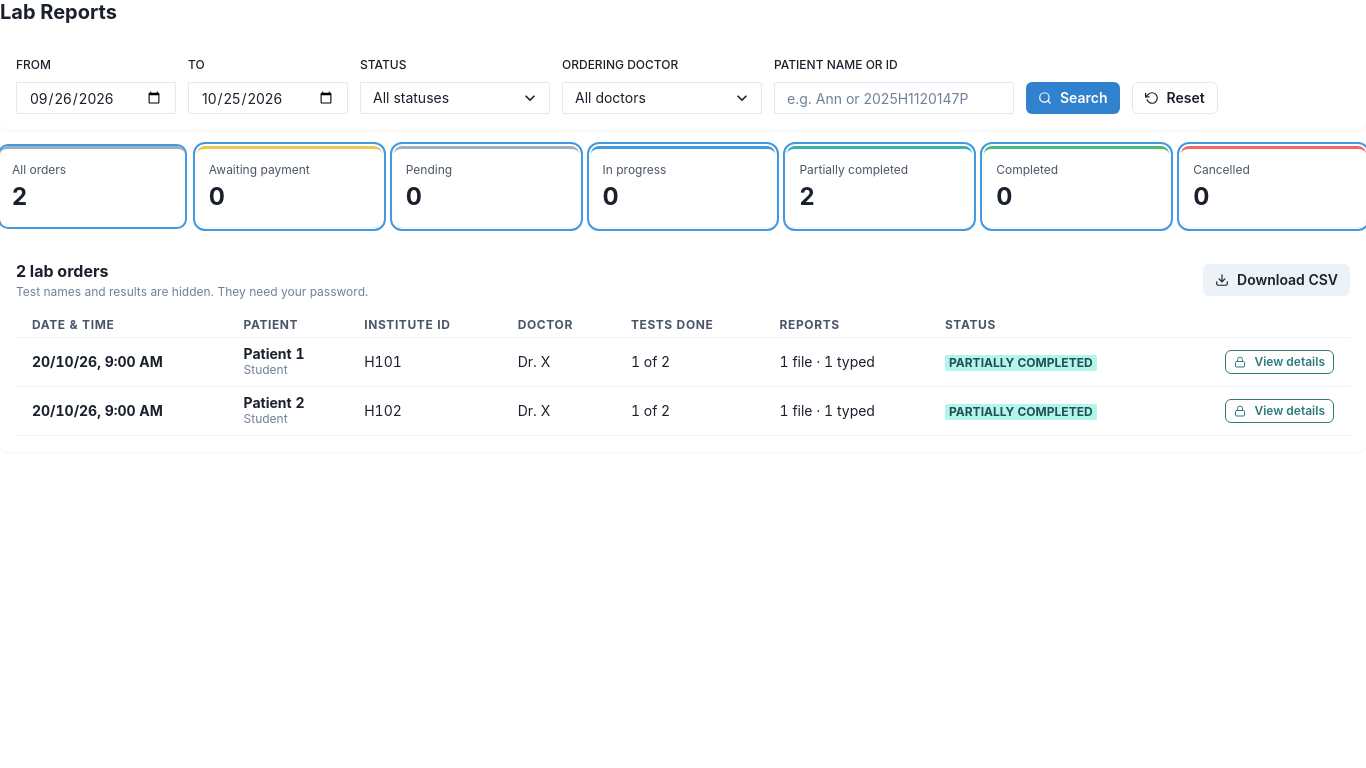
it: Admin Reports - password-protected results › before the password › clicking a row button asks for the password and shows nothing yet
Expected: the text "Patient 1" is shown, 244,345 -> 304,362
Click the button "View details" in the row of "Patient 1". click: (1280, 362)
box: 1226,350 -> 1334,374
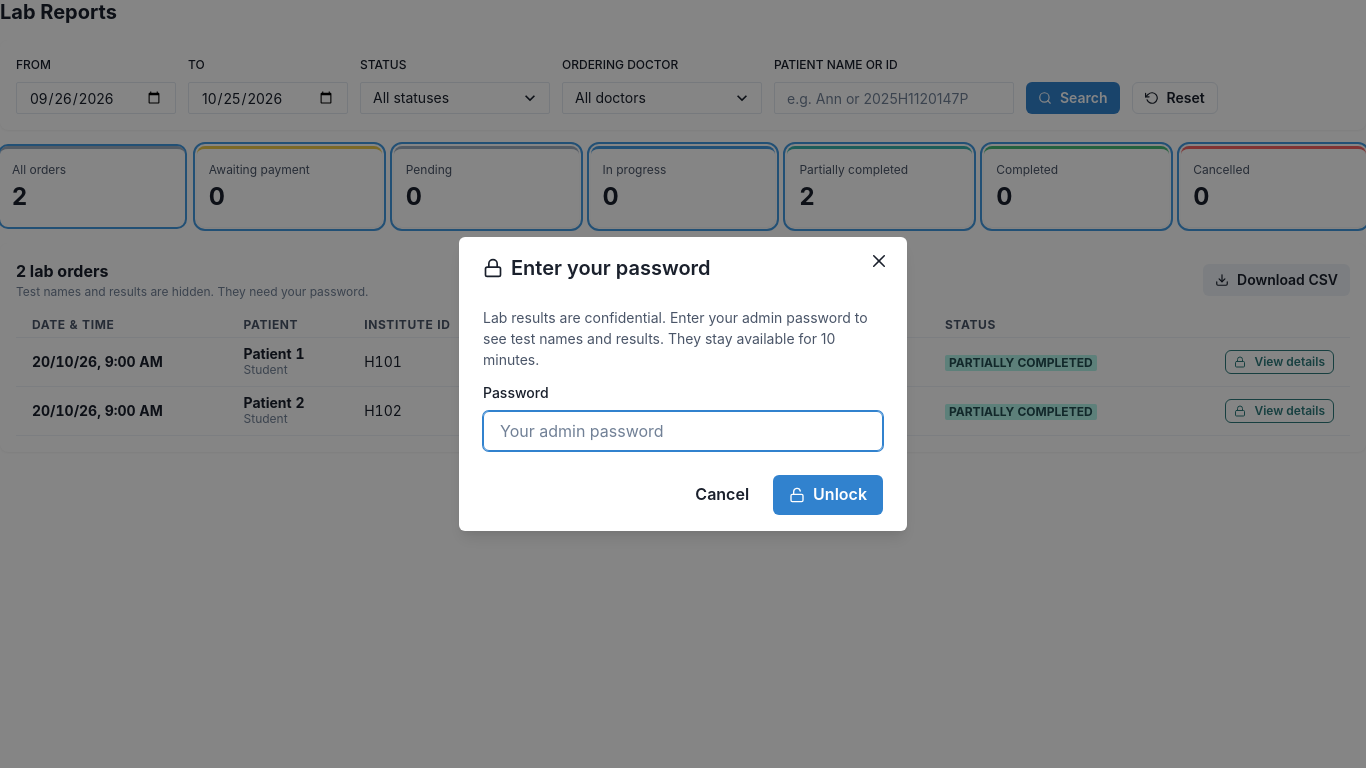
Expected: the text "Enter your password" is shown, 483,256 -> 711,280
Expected: the text "stay available for 10 minutes" is shown, 483,309 -> 868,368
